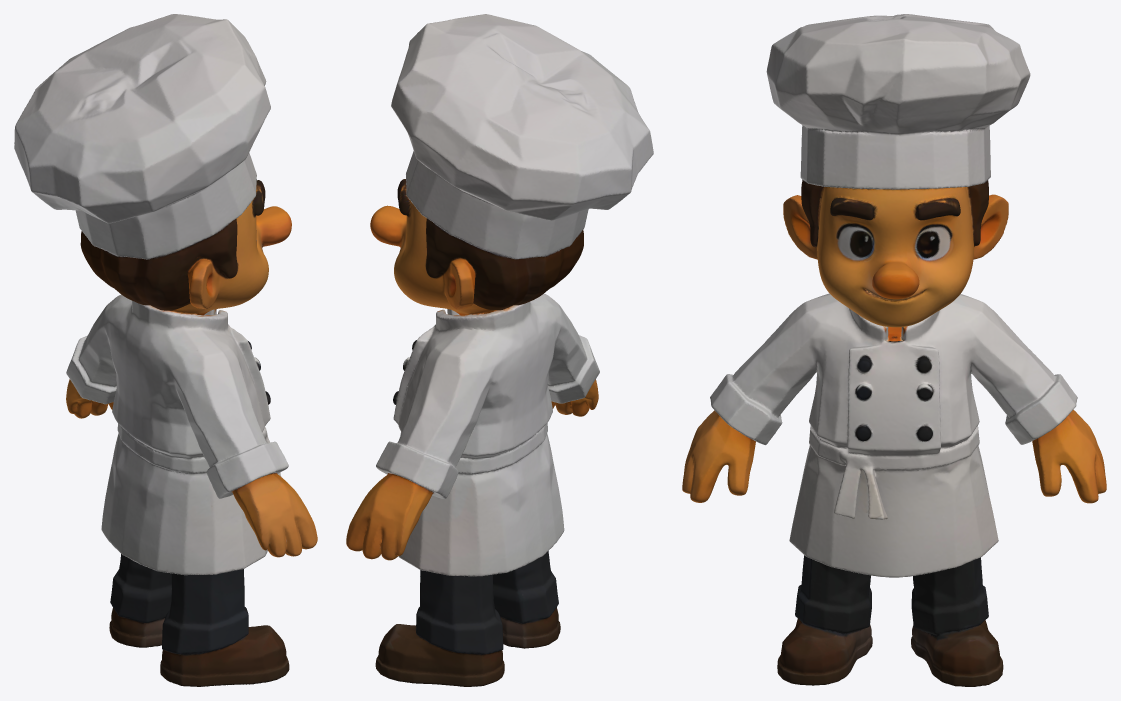
File: chef character 3d model.glb
3 views of the same model, side by side, from view 1: azimuth 30°, elevation 25°; view 2: azimuth 150°, elevation 25°; view 3: azimuth 270°, elevation 25° (orthographic). The views are drawn at different scales.
Parts seen in each view (by area): view 1: tripo_node_2532458a-c69d-4d1e-8e78-833d6778ce5b; view 2: tripo_node_2532458a-c69d-4d1e-8e78-833d6778ce5b; view 3: tripo_node_2532458a-c69d-4d1e-8e78-833d6778ce5b.
Boxes of the visible parts, <box> form: tripo_node_2532458a-c69d-4d1e-8e78-833d6778ce5b: <box>14,14,317,686</box>; tripo_node_2532458a-c69d-4d1e-8e78-833d6778ce5b: <box>346,14,653,686</box>; tripo_node_2532458a-c69d-4d1e-8e78-833d6778ce5b: <box>682,14,1106,686</box>.
Bounding box in the file's own units: 0.4381 × 1 × 0.6005.
Materials: 1 (1 with a texture image).
